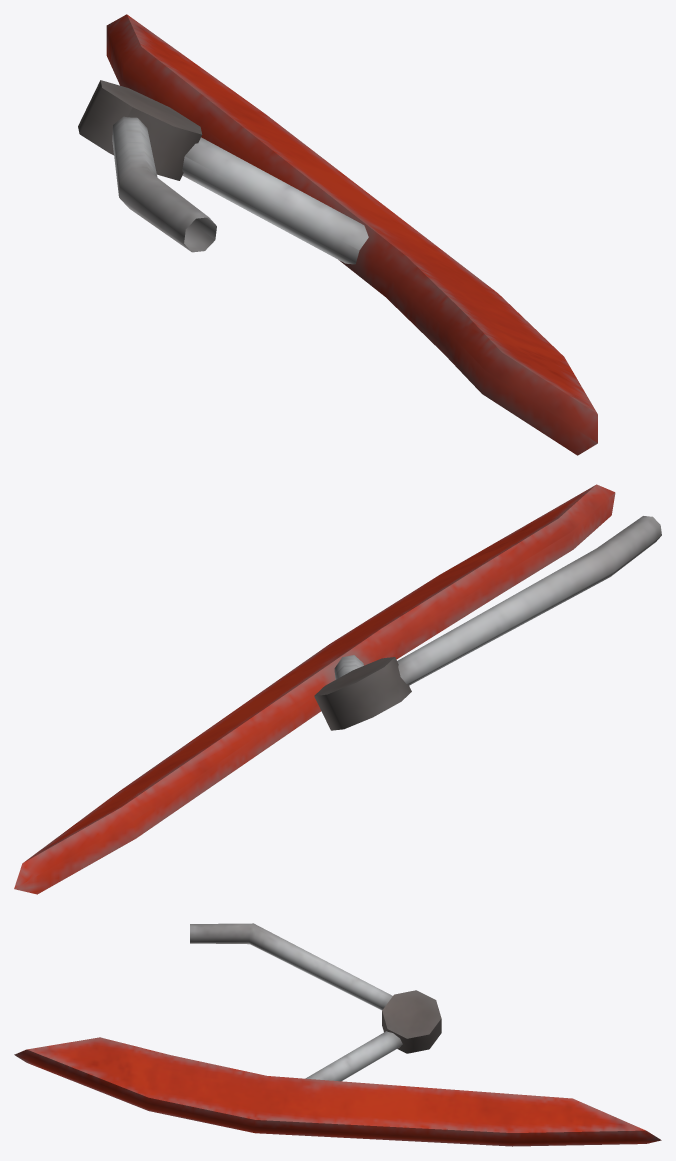
File: cohete_booster3.obj
3 views of the same model, one above another, from view 1: azimuth 30°, elevation 25°; view 2: azimuth 150°, elevation 25°; view 3: azimuth 270°, elevation 25° (orthographic). The views are drawn at different scales.
Parts seen in each view (by area): view 1: cohete_booster3; view 2: cohete_booster3; view 3: cohete_booster3.
Boxes of the visible parts, x1,y1,x2,y2 form: cohete_booster3: (78,14,597,455); cohete_booster3: (14,484,661,894); cohete_booster3: (14,923,661,1146).
Size of the model in its own units: 0.8613 by 0.5383 by 2.39.
Materials: 1 (1 with a texture image).
